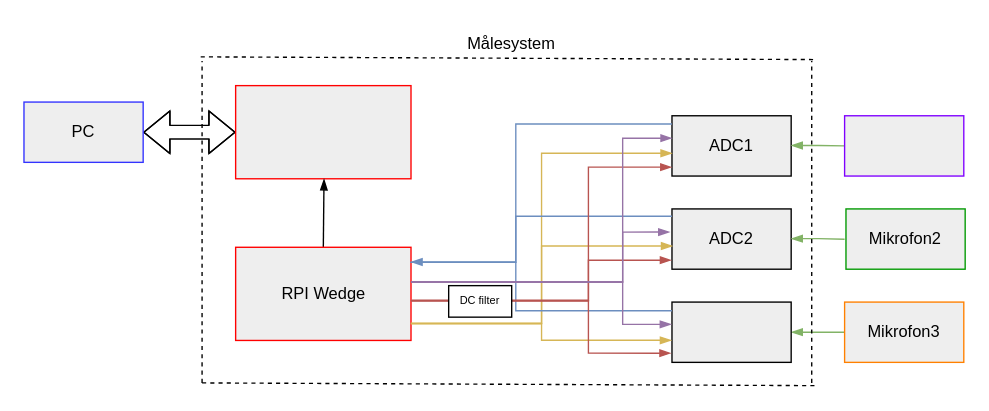
Image size: 989x411. Some labels were removed from this diagram. Here are the shapes that lost their labels. From the top down, the box of each, then its label:
(234, 84, 411, 179): RPI
(843, 114, 964, 176): Mikrofon1
(671, 301, 791, 362): ADC3
